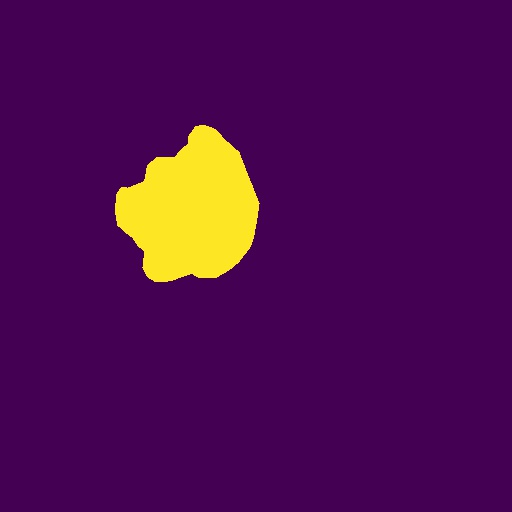Gliomia_tumour: (115, 125, 260, 282)
